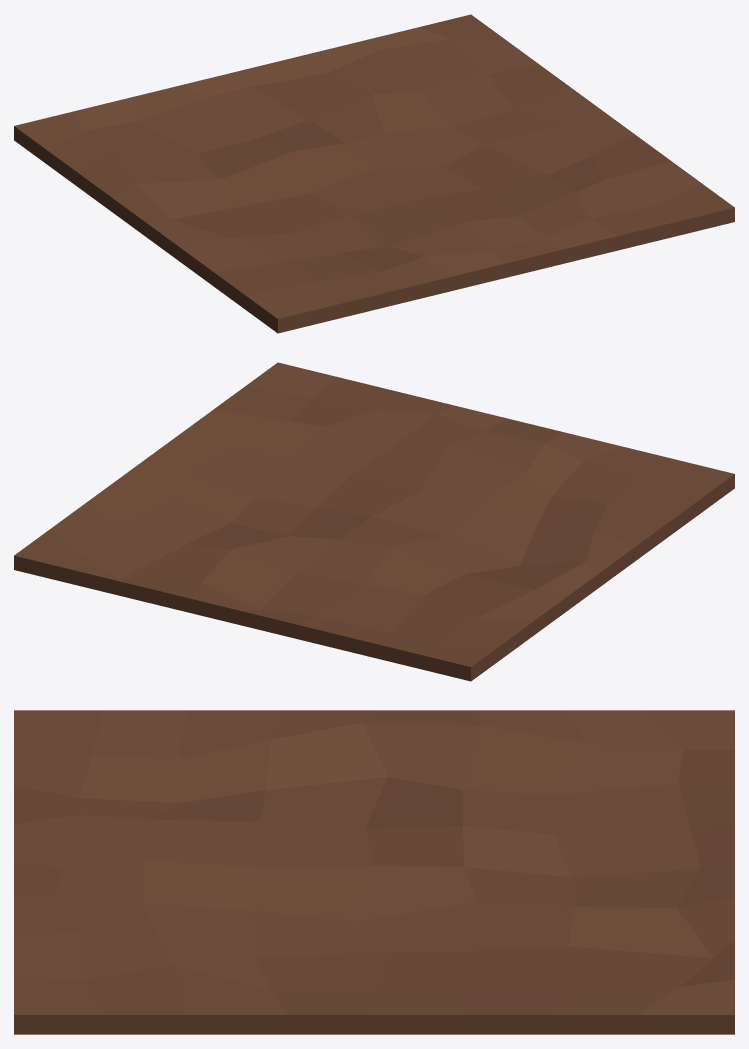
The model's file is CaveGround.fbx.
3 renders of one model, top to bottom at view 1: azimuth 30°, elevation 25°; view 2: azimuth 150°, elevation 25°; view 3: azimuth 270°, elevation 25°, orthographic. The views are drawn at different scales.
Parts seen in each view (by area): view 1: CaveGround; view 2: CaveGround; view 3: CaveGround.
Part boxes in pixels (bbox=[...]): CaveGround: bbox=[14, 14, 734, 333]; CaveGround: bbox=[14, 362, 734, 681]; CaveGround: bbox=[14, 710, 734, 1034].
Size of the model in its own units: 500 by 20.86 by 500.
1 material, 1 textured.
